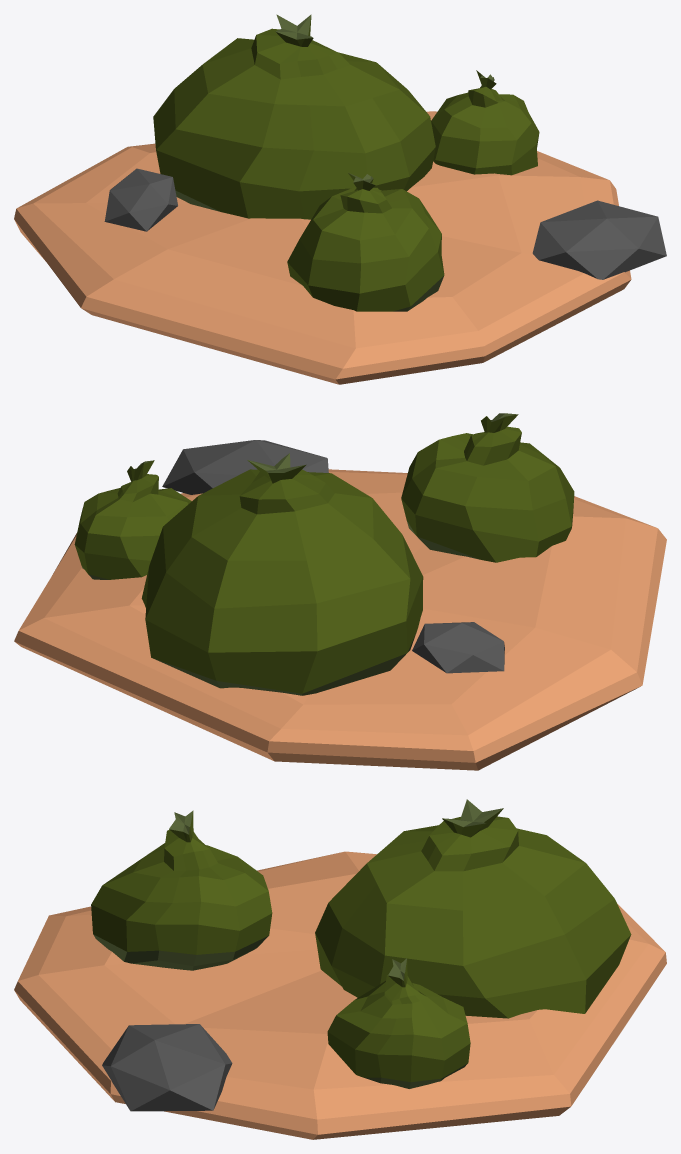
The model's file is SSJ_dirtyFloor2-A.fbx.
3 renders of one model, top to bottom at view 1: azimuth 30°, elevation 25°; view 2: azimuth 150°, elevation 25°; view 3: azimuth 270°, elevation 25°, orthographic. The views are drawn at different scales.
Visible parts, largest first — view 1: Rock.000; view 2: Rock.000; view 3: Rock.000.
Boxes of the visible parts, box(x1,y1,x2,y2) form: Rock.000: box(14, 14, 666, 384); Rock.000: box(14, 413, 666, 770); Rock.000: box(14, 799, 666, 1139).
Bounding box in the file's own units: 457 × 161 × 454.
